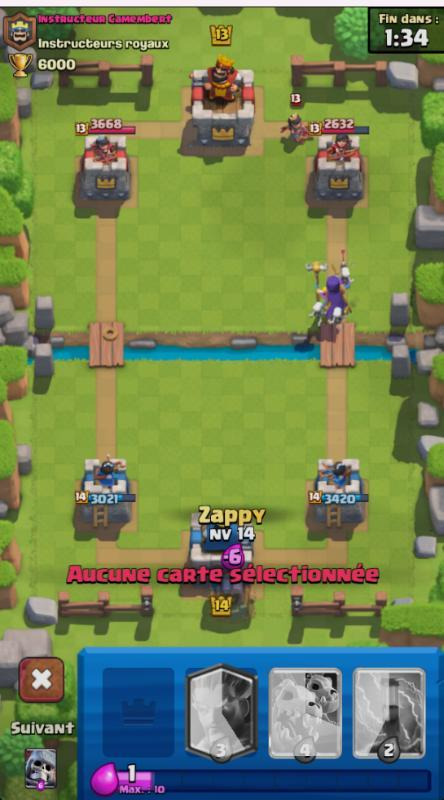enemy_princess: (278, 90, 315, 150)
player_skeletons: (327, 304, 354, 331), (306, 300, 328, 323), (337, 263, 355, 290)
player_witch: (305, 259, 354, 328)
